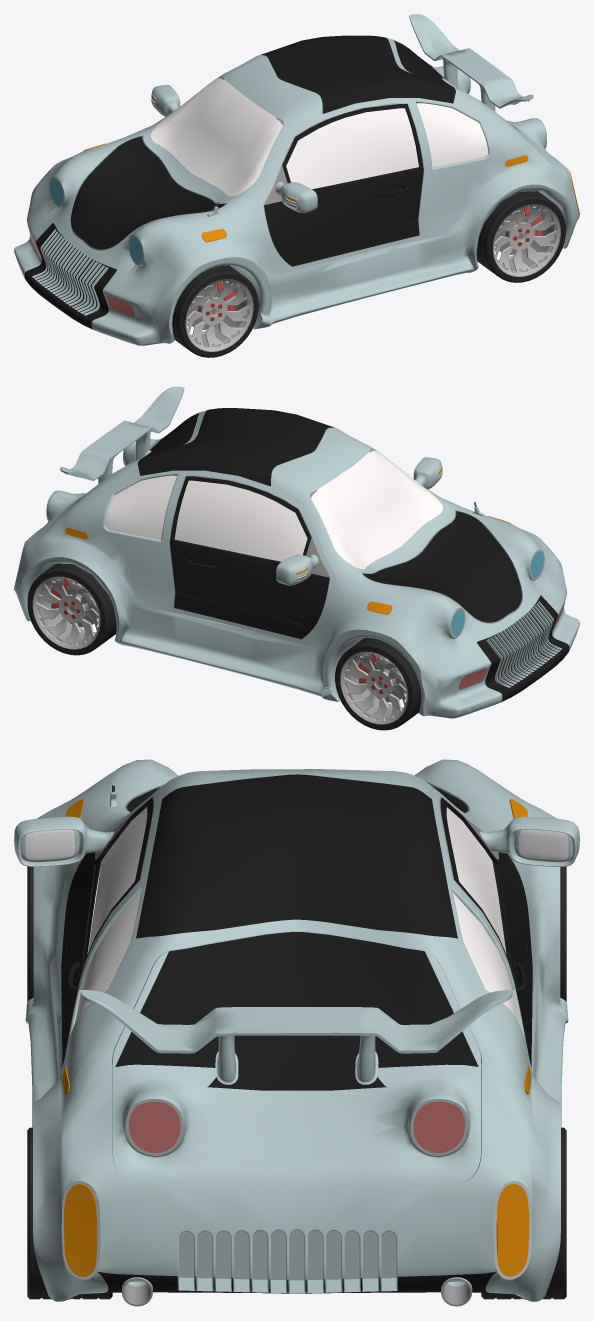
The picture shows the model from 3 angles, top to bottom: view 1: azimuth 30°, elevation 25°; view 2: azimuth 150°, elevation 25°; view 3: azimuth 270°, elevation 25°; orthographic projection. The views are drawn at different scales.
Parts seen in each view (by area): view 1: Mesh_10.001_LOD_1, door left:1.001_LOD_1, whell v7:2.001_LOD_1, whell v7:1.001_LOD_1, door left(Symétrie miroir):1.001_LOD_1; view 2: Mesh_10.001_LOD_1, door left:1.001_LOD_1, door left(Symétrie miroir):1.001_LOD_1, whell v6(Symétrie miroir):2.001_LOD_1, whell v6(Symétrie miroir):1.001_LOD_1; view 3: Mesh_10.001_LOD_1, door left:1.001_LOD_1, door left(Symétrie miroir):1.001_LOD_1, whell v6(Symétrie miroir):2.001_LOD_1, whell v7:2.001_LOD_1, whell v6(Symétrie miroir):1.001_LOD_1, whell v7:1.001_LOD_1.
Part boxes in pixels (left/top/right/bottom): Mesh_10.001_LOD_1: left=14, top=14, right=579, bottom=345; door left:1.001_LOD_1: left=263, top=103, right=424, bottom=267; whell v7:2.001_LOD_1: left=476, top=191, right=565, bottom=282; whell v7:1.001_LOD_1: left=172, top=265, right=258, bottom=357; door left(Symétrie miroir):1.001_LOD_1: left=151, top=84, right=180, bottom=116; Mesh_10.001_LOD_1: left=14, top=386, right=579, bottom=718; door left:1.001_LOD_1: left=170, top=457, right=442, bottom=639; door left(Symétrie miroir):1.001_LOD_1: left=169, top=475, right=330, bottom=639; whell v6(Symétrie miroir):2.001_LOD_1: left=27, top=563, right=116, bottom=655; whell v6(Symétrie miroir):1.001_LOD_1: left=335, top=637, right=421, bottom=730; Mesh_10.001_LOD_1: left=25, top=759, right=568, bottom=1306; door left:1.001_LOD_1: left=14, top=796, right=532, bottom=1067; door left(Symétrie miroir):1.001_LOD_1: left=439, top=796, right=579, bottom=970; whell v6(Symétrie miroir):2.001_LOD_1: left=481, top=1127, right=566, bottom=1299; whell v7:2.001_LOD_1: left=27, top=1127, right=112, bottom=1299; whell v6(Symétrie miroir):1.001_LOD_1: left=560, top=866, right=566, bottom=1001; whell v7:1.001_LOD_1: left=27, top=866, right=33, bottom=1001.
Bounding box in the file's own units: 0.1643 × 0.0655 × 0.0922.
